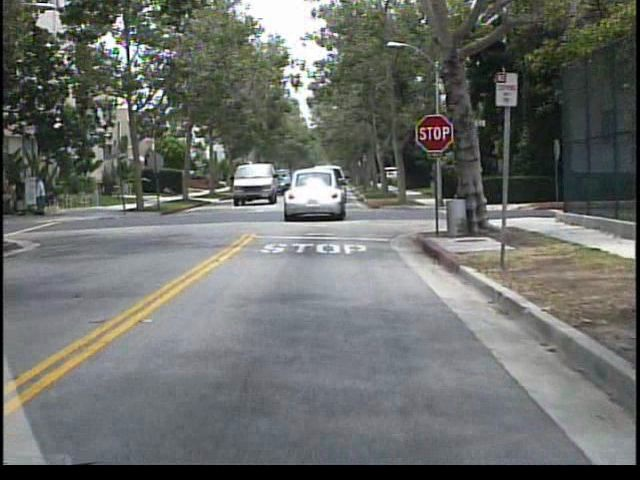person: (15, 172, 33, 219), (37, 170, 52, 217)
